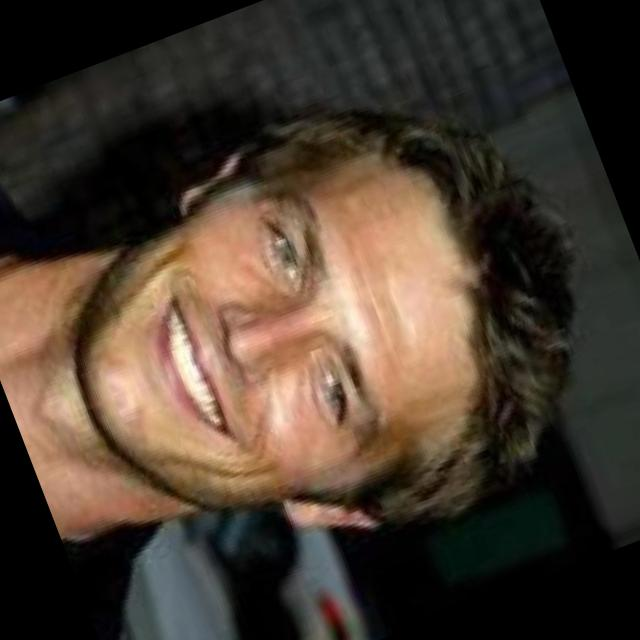bareface: (34, 83, 568, 556)
